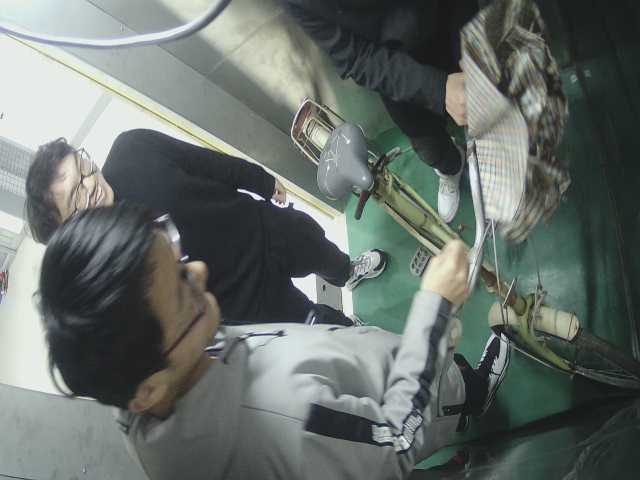bicycle: (283, 86, 638, 398)
person: (53, 233, 502, 477), (15, 127, 373, 336), (283, 1, 557, 220)
